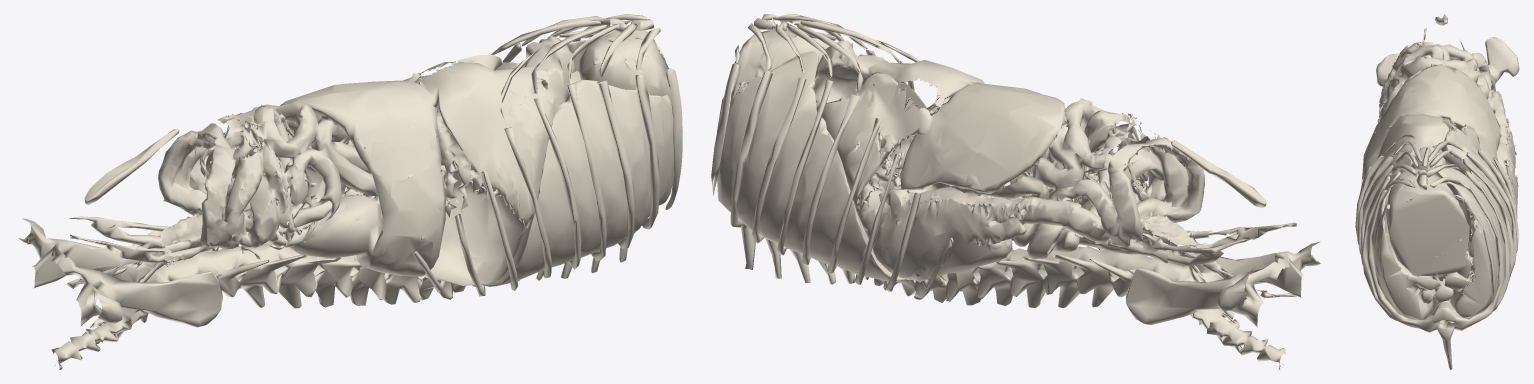
Rendered from canine-abdomen-pixelbeaker-quick-bf58191333f0.glb.
3 views of the same model, side by side, from view 1: azimuth 30°, elevation 25°; view 2: azimuth 150°, elevation 25°; view 3: azimuth 270°, elevation 25° (orthographic). The views are drawn at different scales.
Visible parts, largest first — view 1: vascular-liver-pancreas, bones, intestines, lungs, vascular; view 2: vascular-liver-pancreas, bones, intestines, lungs, vascular; view 3: vascular-liver-pancreas, bones, lungs, intestines, vascular.
Boxes of the visible parts, x1=… form: vascular-liver-pancreas: x1=160, y1=24, x2=671, y2=285; bones: x1=18, y1=14, x2=682, y2=369; intestines: x1=158, y1=101, x2=384, y2=262; lungs: x1=482, y1=40, x2=673, y2=286; vascular: x1=66, y1=37, x2=665, y2=327; vascular-liver-pancreas: x1=733, y1=29, x2=1212, y2=282; bones: x1=711, y1=14, x2=1320, y2=369; intestines: x1=860, y1=98, x2=1206, y2=259; lungs: x1=717, y1=51, x2=926, y2=281; vascular: x1=899, y1=149, x2=1296, y2=324; vascular-liver-pancreas: x1=1362, y1=42, x2=1518, y2=303; bones: x1=1355, y1=14, x2=1519, y2=369; lungs: x1=1363, y1=164, x2=1511, y2=320; intestines: x1=1377, y1=41, x2=1509, y2=178; vascular: x1=1390, y1=27, x2=1509, y2=292.
Bounding box in the file's own units: 2 × 0.877 × 0.6516.
